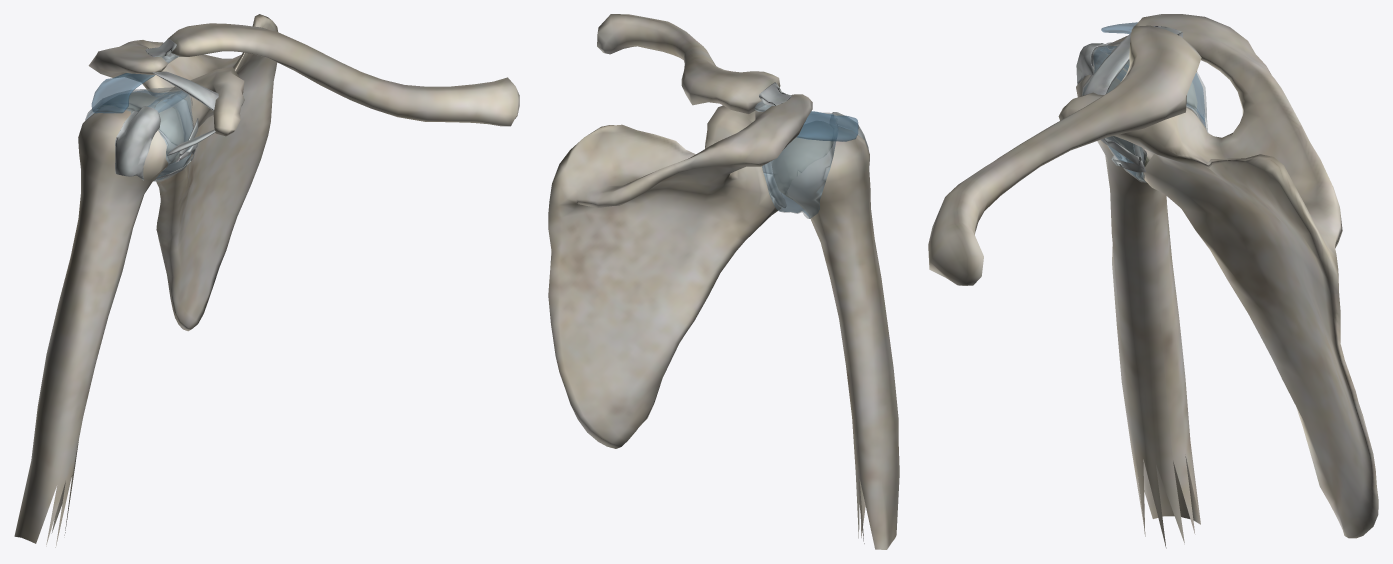
File: shoulder-joint.glb
3 renders of one model, left to right at view 1: azimuth 30°, elevation 25°; view 2: azimuth 150°, elevation 25°; view 3: azimuth 270°, elevation 25°, orthographic. The views are drawn at different scales.
Visible parts, largest first — view 1: Right_humerus, Right_scapula, Right_clavicle, Right_joint_capsule_of_glenohumeral_joint, Right_transverse_humeral_ligament, Right_subacromial_bursa, Right_humeral_articular_surface_of_glenohumeral_joint, Right_coracoacromial_ligament, Right_glenoid_labrum; view 2: Right_scapula, Right_humerus, Right_clavicle, Right_joint_capsule_of_glenohumeral_joint, Right_humeral_articular_surface_of_glenohumeral_joint, Right_subacromial_bursa, Right_acromioclavicular_ligament; view 3: Right_scapula, Right_humerus, Right_clavicle, Right_joint_capsule_of_glenohumeral_joint, Right_coracoacromial_ligament, Right_transverse_humeral_ligament.
Part boxes in pixels (x1,y1,x2,y2): Right_humerus: [14, 105, 178, 547]; Right_scapula: [88, 14, 277, 331]; Right_clavicle: [167, 23, 519, 126]; Right_joint_capsule_of_glenohumeral_joint: [85, 87, 193, 181]; Right_transverse_humeral_ligament: [115, 106, 160, 180]; Right_subacromial_bursa: [91, 73, 154, 113]; Right_humeral_articular_surface_of_glenohumeral_joint: [97, 92, 183, 154]; Right_coracoacromial_ligament: [152, 71, 218, 110]; Right_glenoid_labrum: [156, 94, 192, 173]; Right_scapula: [548, 94, 812, 448]; Right_humerus: [787, 127, 899, 549]; Right_clavicle: [597, 14, 780, 113]; Right_joint_capsule_of_glenohumeral_joint: [762, 112, 837, 218]; Right_humeral_articular_surface_of_glenohumeral_joint: [772, 137, 833, 199]; Right_subacromial_bursa: [796, 111, 858, 141]; Right_acromioclavicular_ligament: [759, 82, 791, 105]; Right_scapula: [1058, 14, 1378, 538]; Right_humerus: [1076, 35, 1200, 548]; Right_clavicle: [928, 25, 1201, 285]; Right_joint_capsule_of_glenohumeral_joint: [1082, 41, 1208, 182]; Right_coracoacromial_ligament: [1083, 33, 1130, 95]; Right_transverse_humeral_ligament: [1076, 43, 1114, 84].
Size of the model in its own units: 0.1957 by 0.2185 by 0.1511.
Materials: 16 (16 with a texture image).
